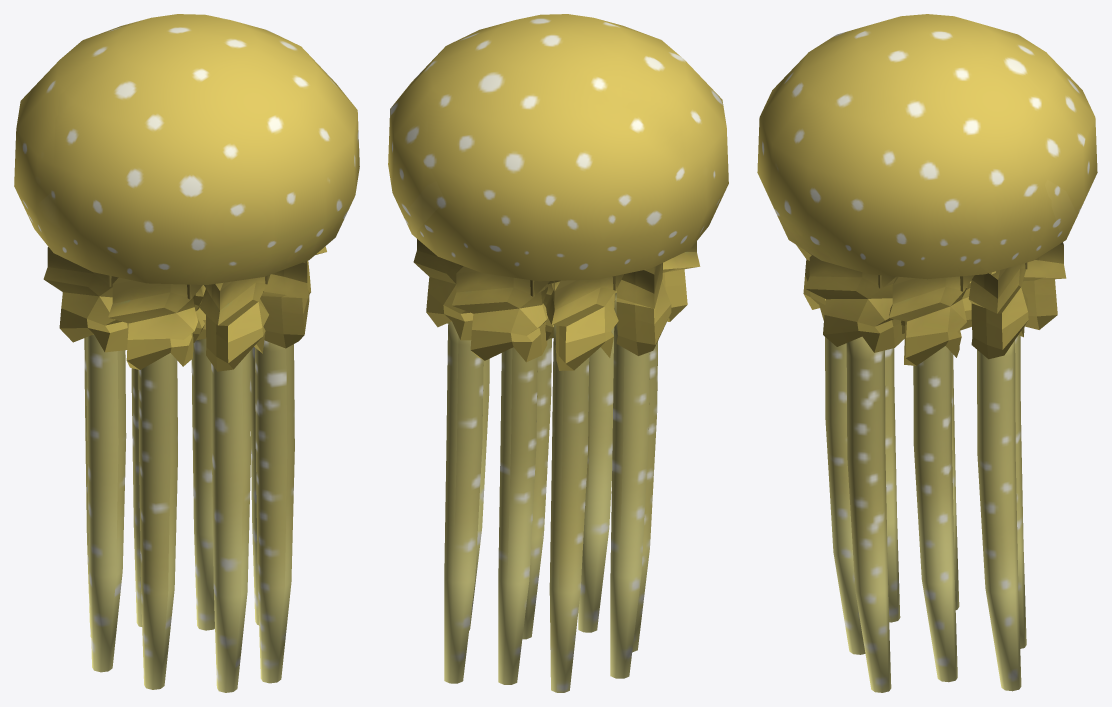
The model's file is spotted jellyfish.glb.
3 views of the same model, side by side, from view 1: azimuth 30°, elevation 25°; view 2: azimuth 150°, elevation 25°; view 3: azimuth 270°, elevation 25° (orthographic). The views are drawn at different scales.
Visible parts, largest first — view 1: Cylinder.001, Sphere.001; view 2: Cylinder.001, Sphere.001; view 3: Cylinder.001, Sphere.001.
Boxes of the visible parts, left/top/right/bottom form: Cylinder.001: left=14, top=14, right=359, bottom=692; Sphere.001: left=43, top=246, right=326, bottom=371; Cylinder.001: left=388, top=14, right=728, bottom=692; Sphere.001: left=413, top=239, right=700, bottom=370; Cylinder.001: left=757, top=14, right=1097, bottom=692; Sphere.001: left=796, top=242, right=1066, bottom=365.
Bounding box in the file's own units: 1.6 × 3.26 × 1.6.
Materials: 2 (2 with a texture image).
